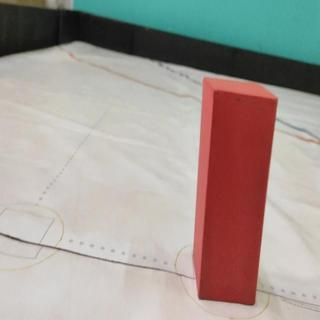redbox: (192, 75, 279, 305)
